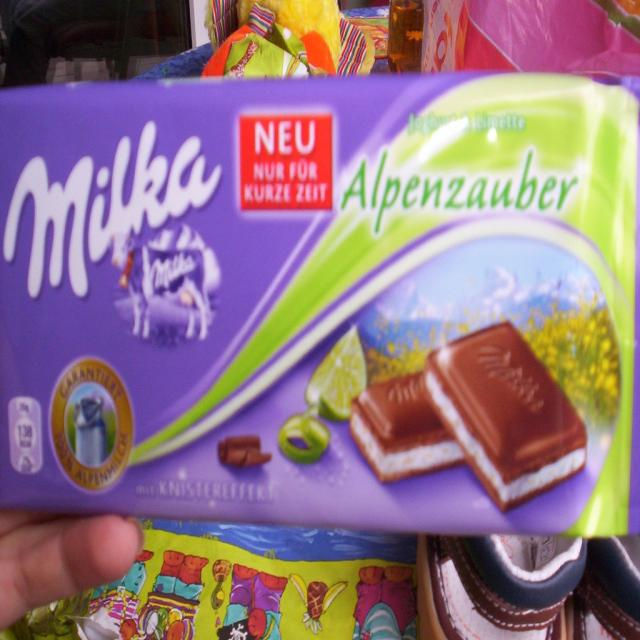milka: (2, 112, 233, 359)
